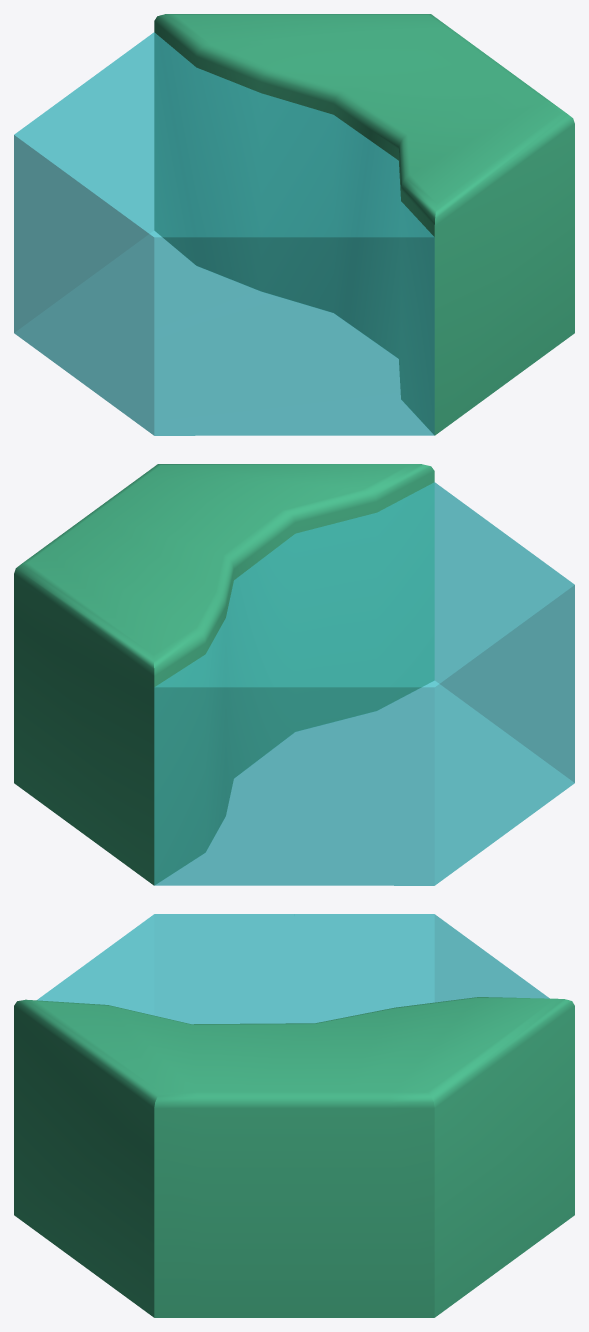
File: hex_forest_waterC.fbx
3 views of the same model, one above another, from view 1: azimuth 30°, elevation 25°; view 2: azimuth 150°, elevation 25°; view 3: azimuth 270°, elevation 25° (orthographic).
Parts seen in each view (by area): view 1: hex_forest_waterC; view 2: hex_forest_waterC; view 3: hex_forest_waterC.
Boxes of the visible parts, <box> form: hex_forest_waterC: <box>14,14,574,435</box>; hex_forest_waterC: <box>14,464,574,885</box>; hex_forest_waterC: <box>14,914,574,1317</box>.
Size of the model in its own units: 200 by 100 by 231.
